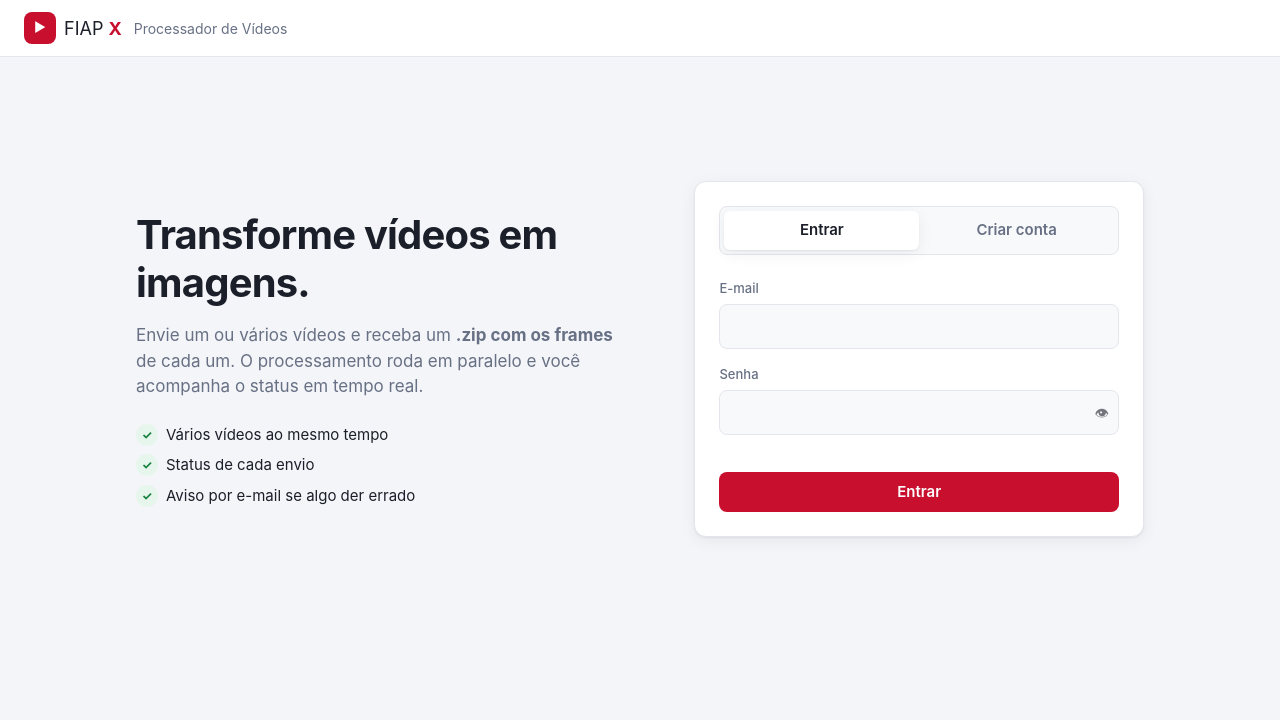
Test: acesso › faz login e mostra os vídeos do usuário
Type "ana@fiapx.com" into the field labelled "E-mail" at point(919, 327), box [720,304,1119,349]
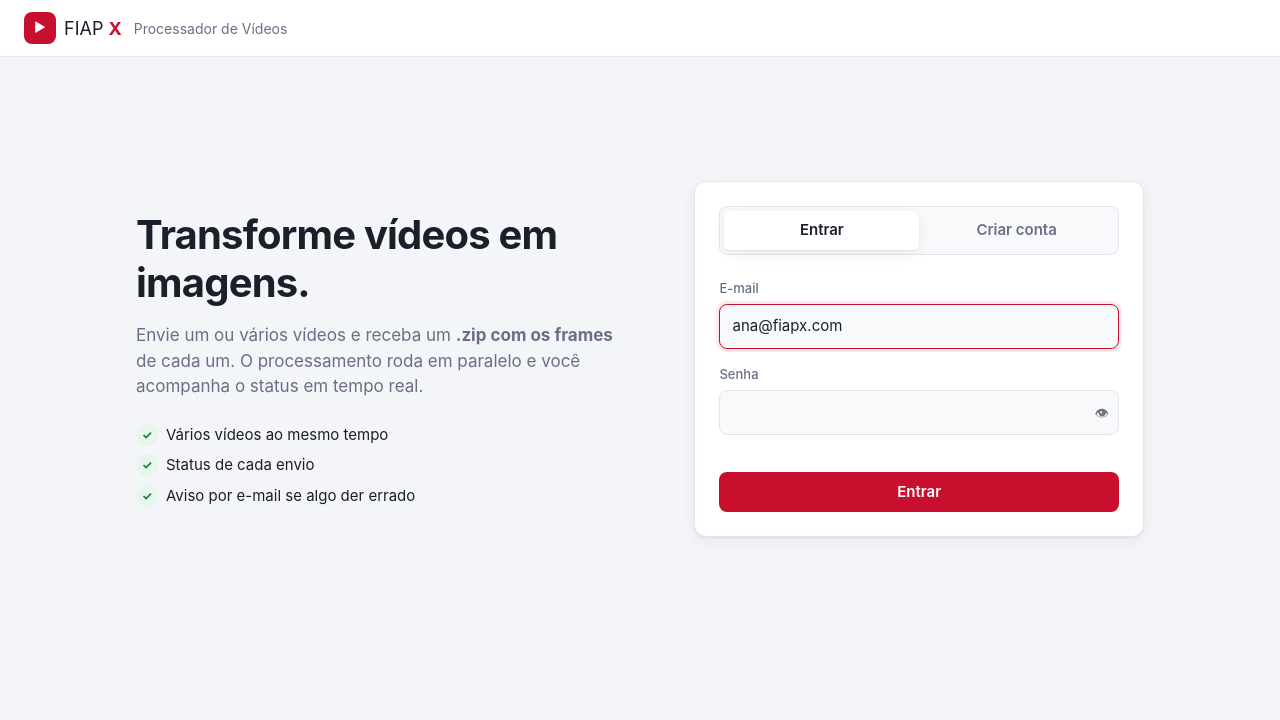
Type "senha-segura" into the password field labelled "Senha" at point(919, 413), box [720,390,1119,435]
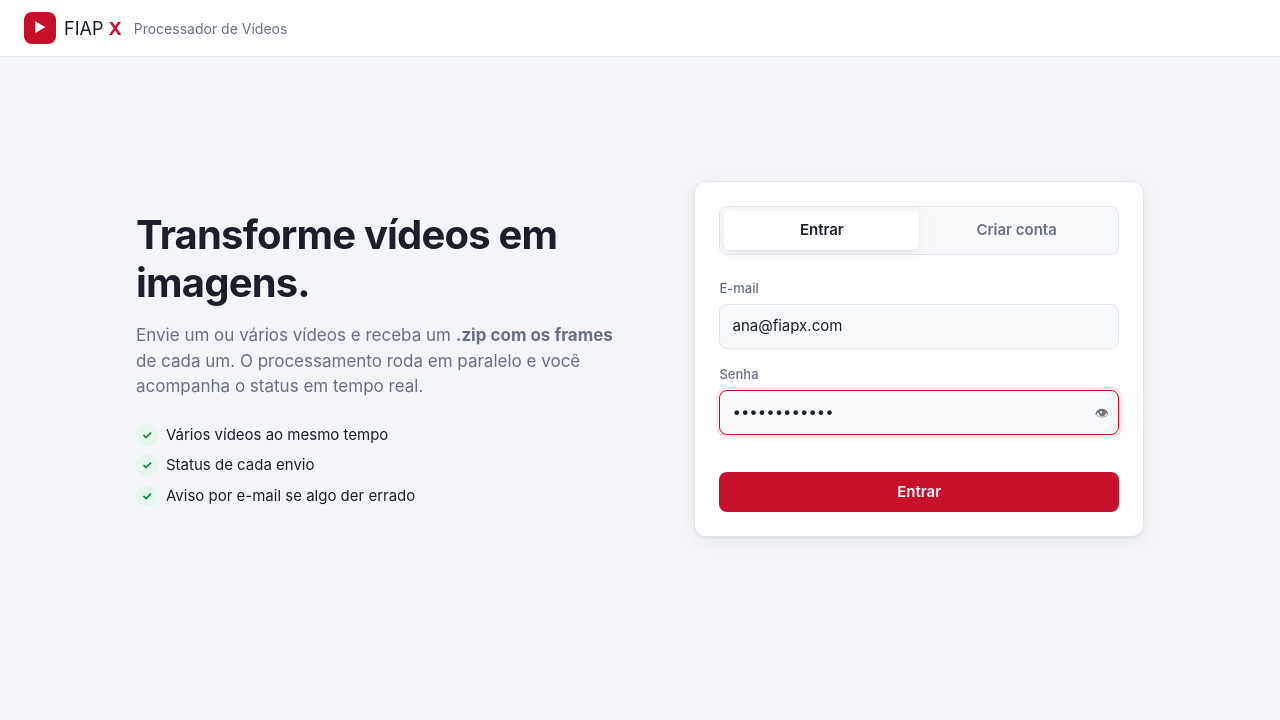
Click the button "Entrar" at point(919, 492), box [720,472,1119,512]
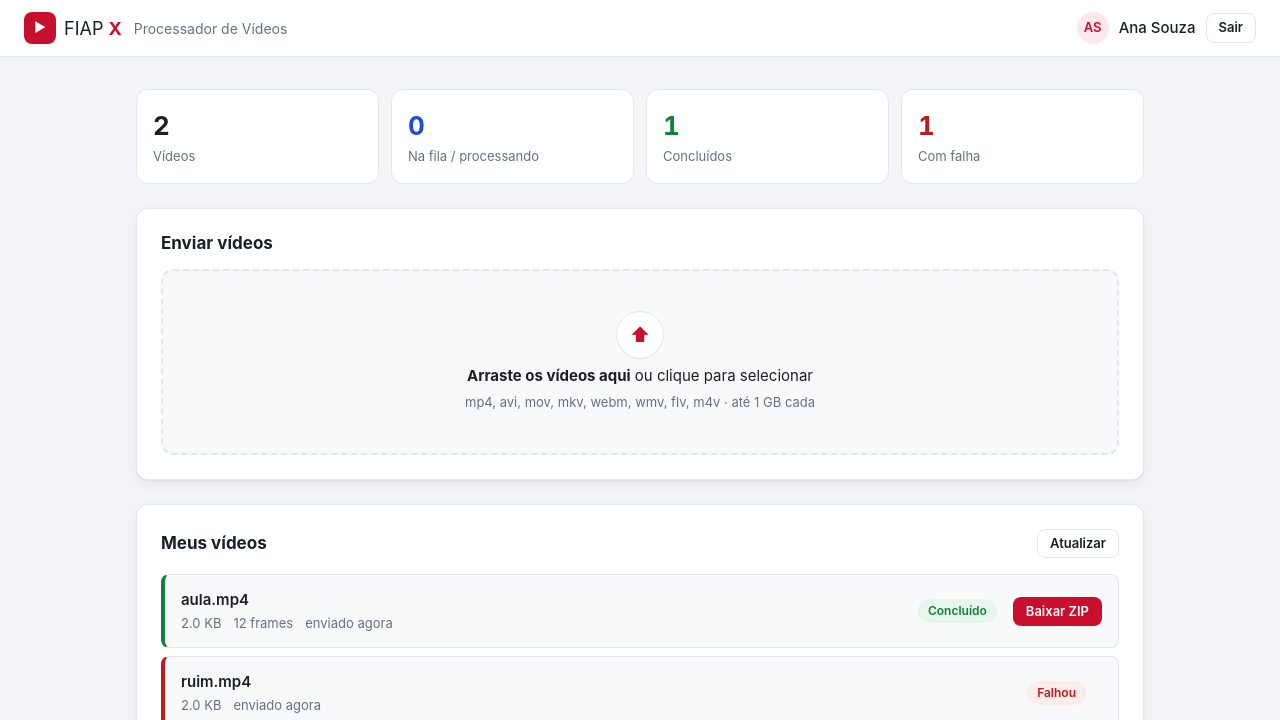
expect the text "aula.mp4" is shown: met, box [181,590,249,610]
expect the text "Ana Souza" is shown: met, box [1119,17,1196,39]
expect the text "12 frames" is shown: met, box [234,614,293,634]
